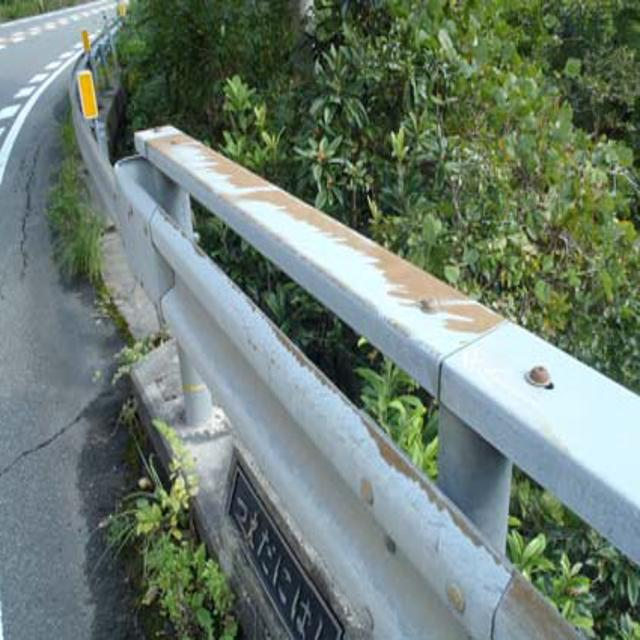corrosion: (160, 122, 480, 358)
